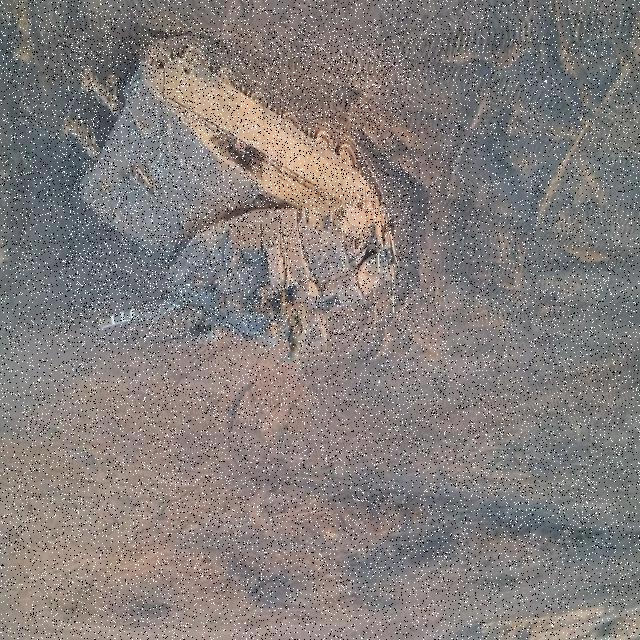MIL_MBT: (63, 28, 412, 343)
